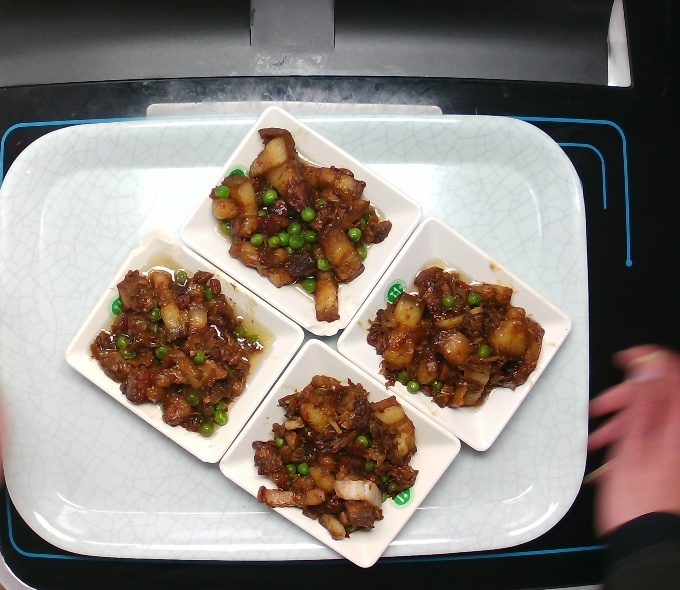wcq-JiangRou: (204, 122, 395, 330), (367, 256, 559, 441), (90, 254, 265, 444), (242, 365, 417, 555)
